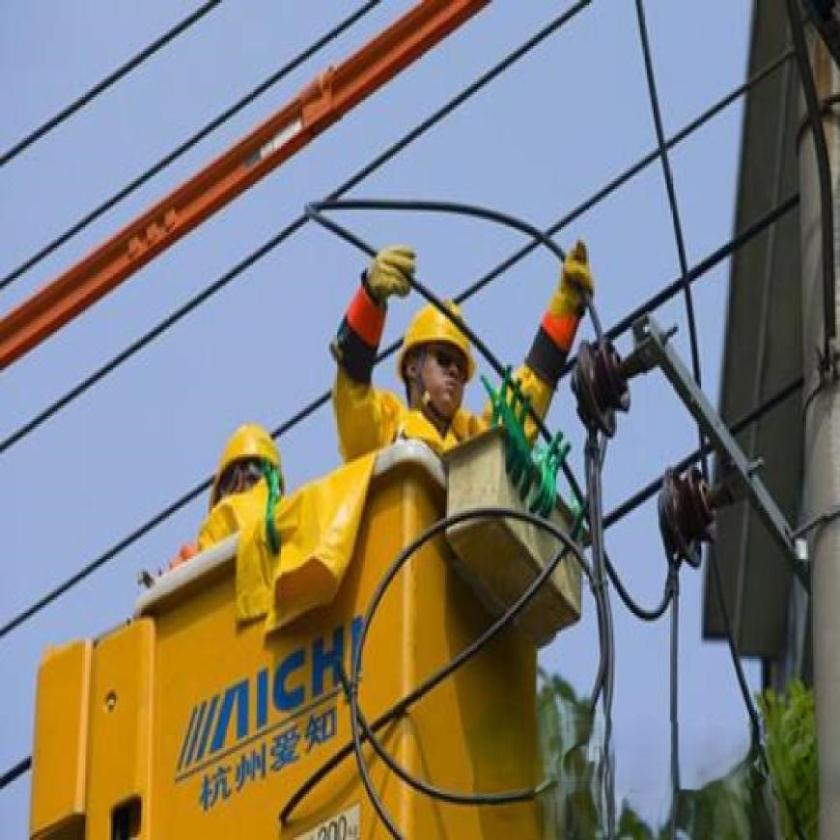Con_casco: (393, 288, 487, 420)
